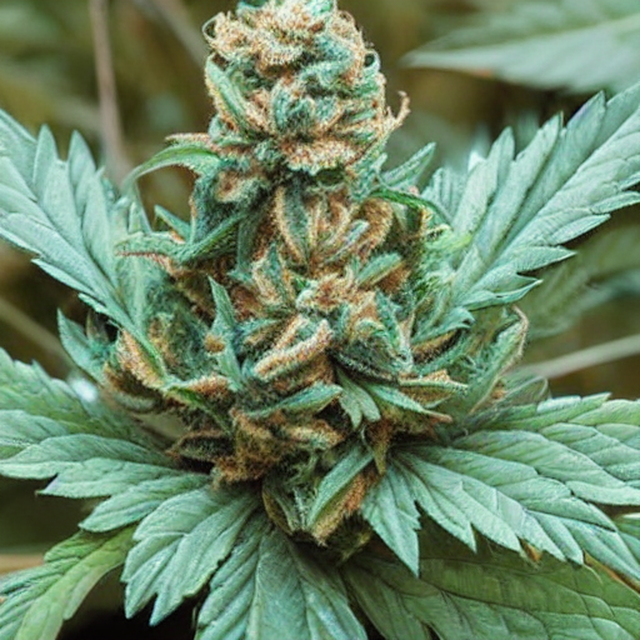Marijuana Joint: (92, 1, 516, 550)
